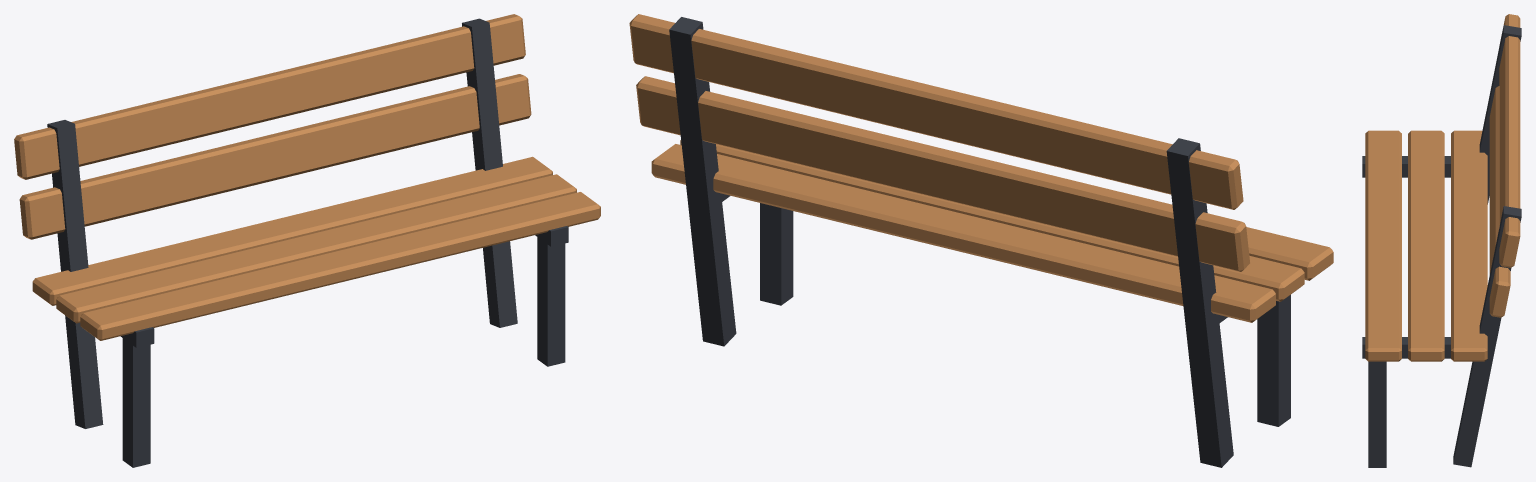
Rendered from Park_Bench.glb.
3 views of the same model, side by side, from view 1: azimuth 30°, elevation 25°; view 2: azimuth 150°, elevation 25°; view 3: azimuth 270°, elevation 25° (orthographic). The views are drawn at different scales.
Visible parts, largest first — view 1: Park_Bench_Mesh; view 2: Park_Bench_Mesh; view 3: Park_Bench_Mesh.
Part boxes in pixels (bbox=[...]): Park_Bench_Mesh: bbox=[14, 14, 600, 467]; Park_Bench_Mesh: bbox=[629, 14, 1333, 467]; Park_Bench_Mesh: bbox=[1362, 14, 1521, 467].
Bounding box in the file's own units: 1.7 × 0.9179 × 0.5219.
Materials: 1 (1 with a texture image).
